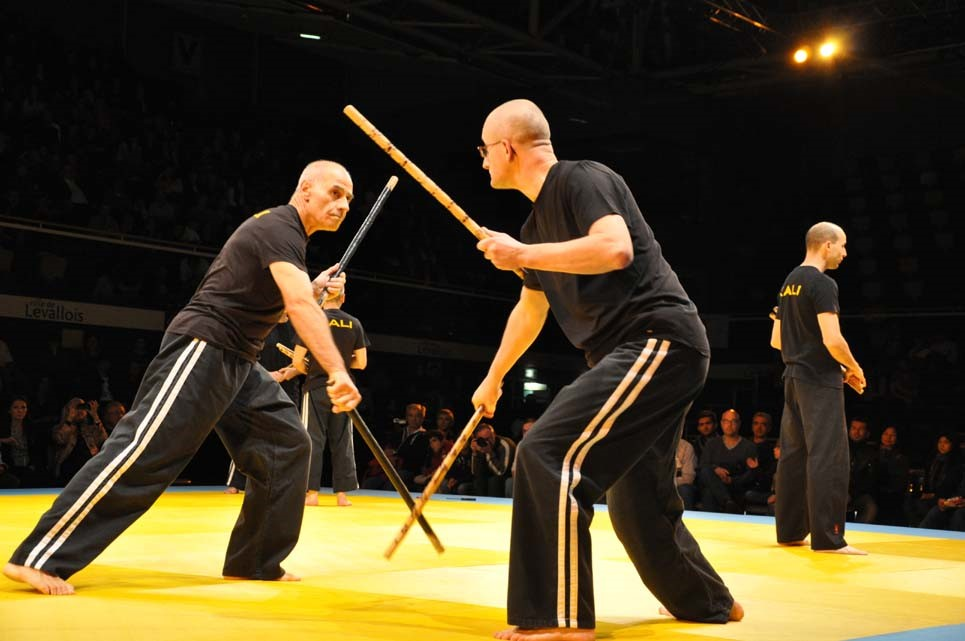baston_e: (325, 387, 444, 545), (351, 106, 480, 243), (390, 404, 479, 556), (316, 182, 398, 301), (280, 342, 308, 366)
baston_v: (339, 100, 358, 118), (516, 267, 530, 283), (322, 375, 338, 387), (435, 545, 448, 558), (388, 171, 400, 185), (380, 549, 392, 563), (855, 379, 867, 389), (855, 384, 864, 395), (767, 311, 774, 319), (274, 339, 280, 348), (772, 304, 778, 312)
